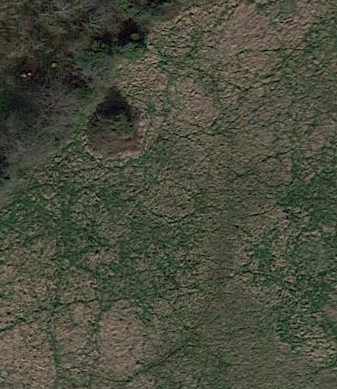tree: (80, 98, 165, 164)
